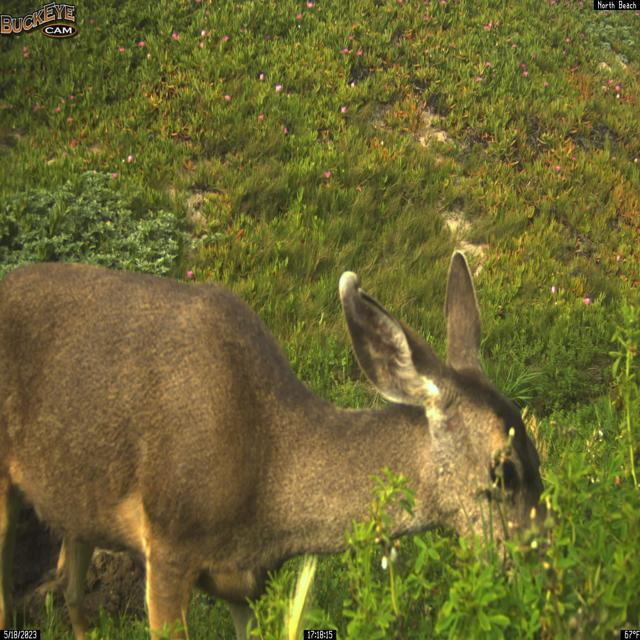deer: (0, 250, 552, 640)
